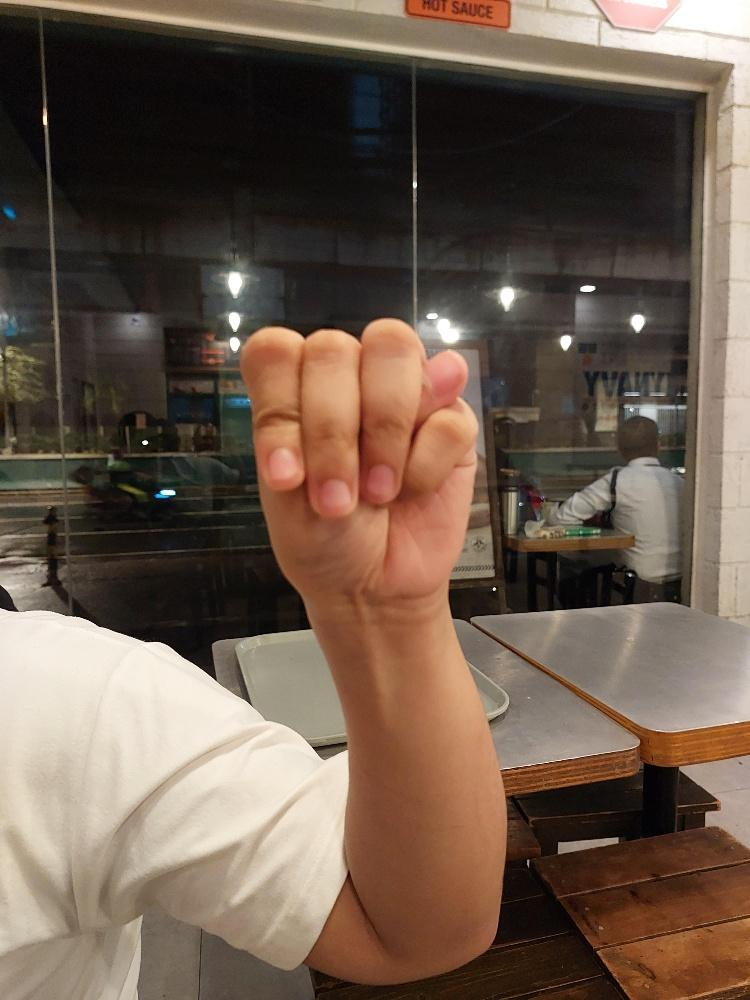m: (236, 315, 480, 603)
